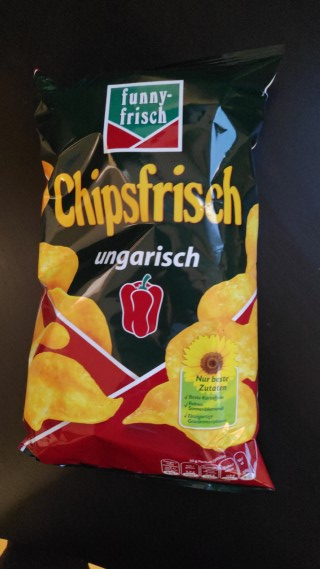chipsfrisch: (16, 43, 290, 493)
